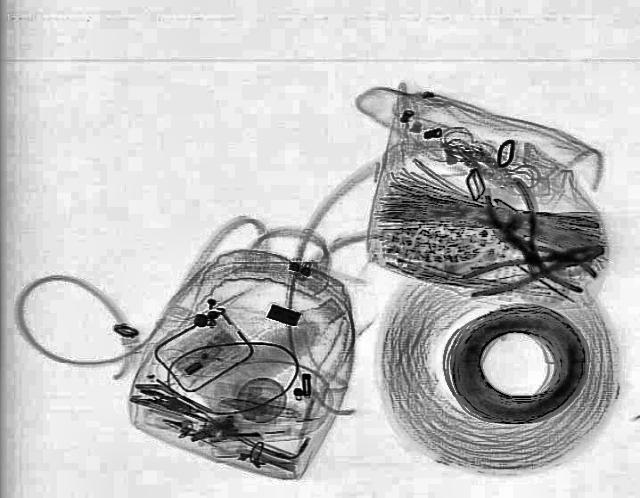Pliers: (457, 234, 611, 300), (476, 178, 560, 272)
